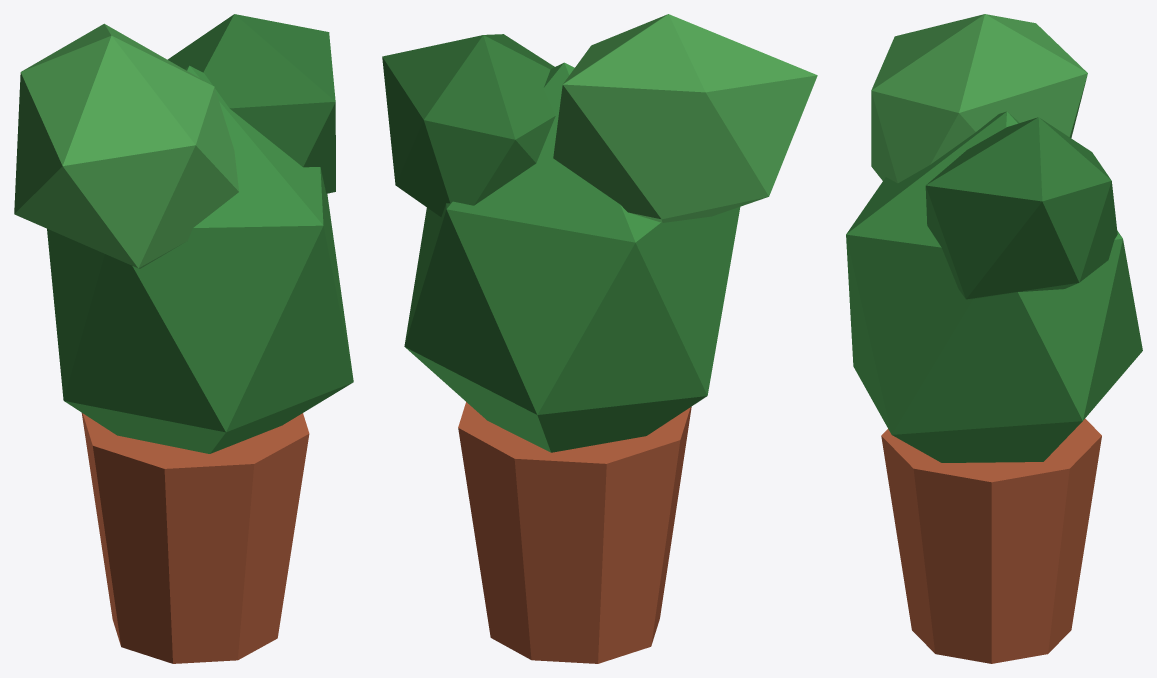
The model's file is plantBig.fbx.
The picture shows the model from 3 angles, left to right: view 1: azimuth 30°, elevation 25°; view 2: azimuth 150°, elevation 25°; view 3: azimuth 270°, elevation 25°; orthographic projection. The views are drawn at different scales.
Visible parts, largest first — view 1: plantBig; view 2: plantBig; view 3: plantBig.
Part boxes in pixels (left/top/right/bottom): plantBig: left=14, top=14, right=353, bottom=663; plantBig: left=382, top=14, right=817, bottom=663; plantBig: left=846, top=14, right=1142, bottom=663.
Size of the model in its own units: 3.04 by 5.18 by 2.42.
